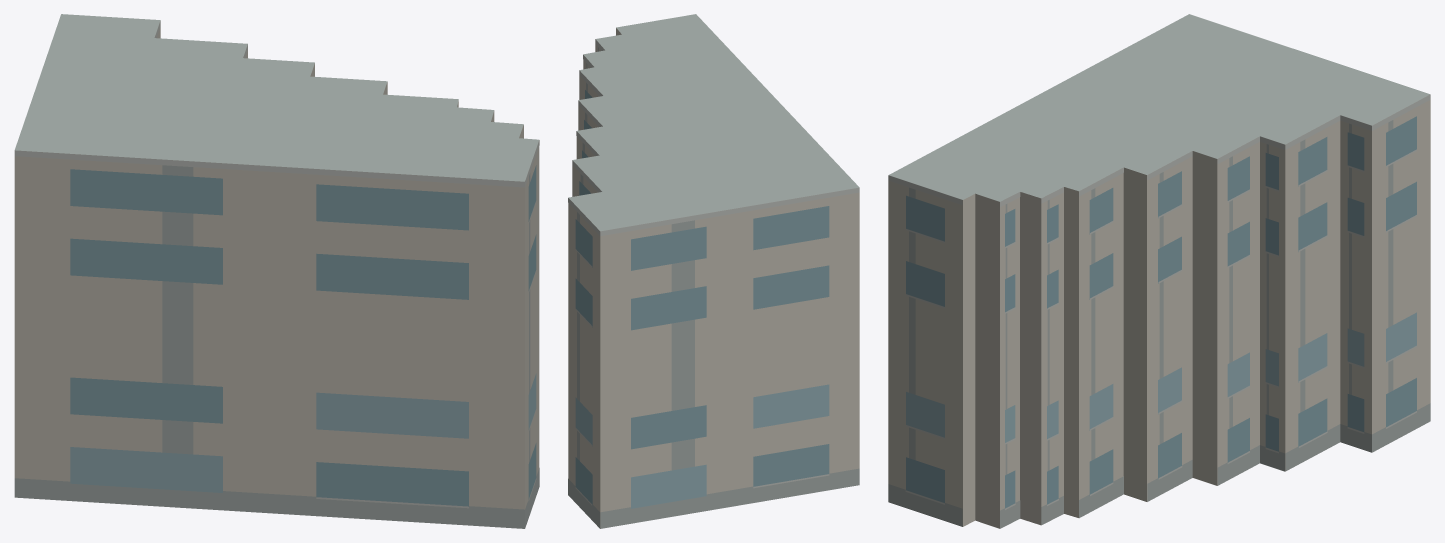
Rendered from survey-upis-32802890.glb.
3 renders of one model, left to right at view 1: azimuth 30°, elevation 25°; view 2: azimuth 150°, elevation 25°; view 3: azimuth 270°, elevation 25°, orthographic. The views are drawn at different scales.
Visible parts, largest first — view 1: survey-upis-32802890.tmp; view 2: survey-upis-32802890.tmp; view 3: survey-upis-32802890.tmp.
Part boxes in pixels (x1=…): survey-upis-32802890.tmp: x1=14, y1=14, x2=539, y2=528; survey-upis-32802890.tmp: x1=568, y1=14, x2=859, y2=528; survey-upis-32802890.tmp: x1=888, y1=14, x2=1430, y2=528.
Size of the model in its own units: 18.13 by 14.7 by 22.1.
